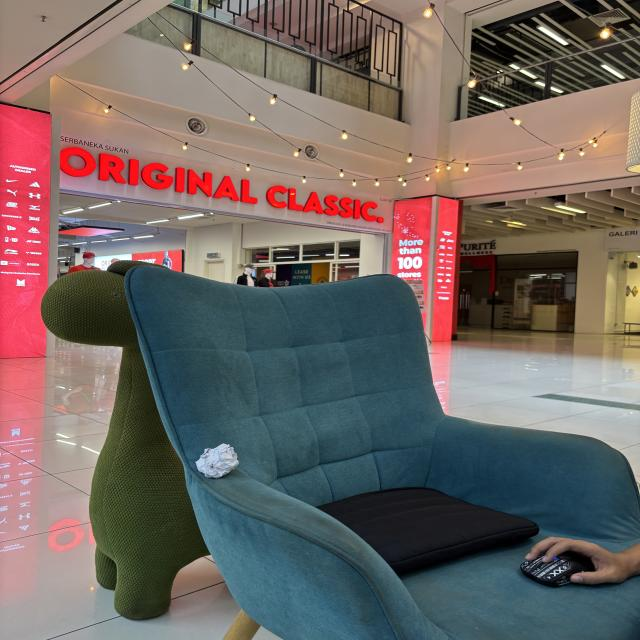crumpled_paper: (193, 440, 241, 480)
